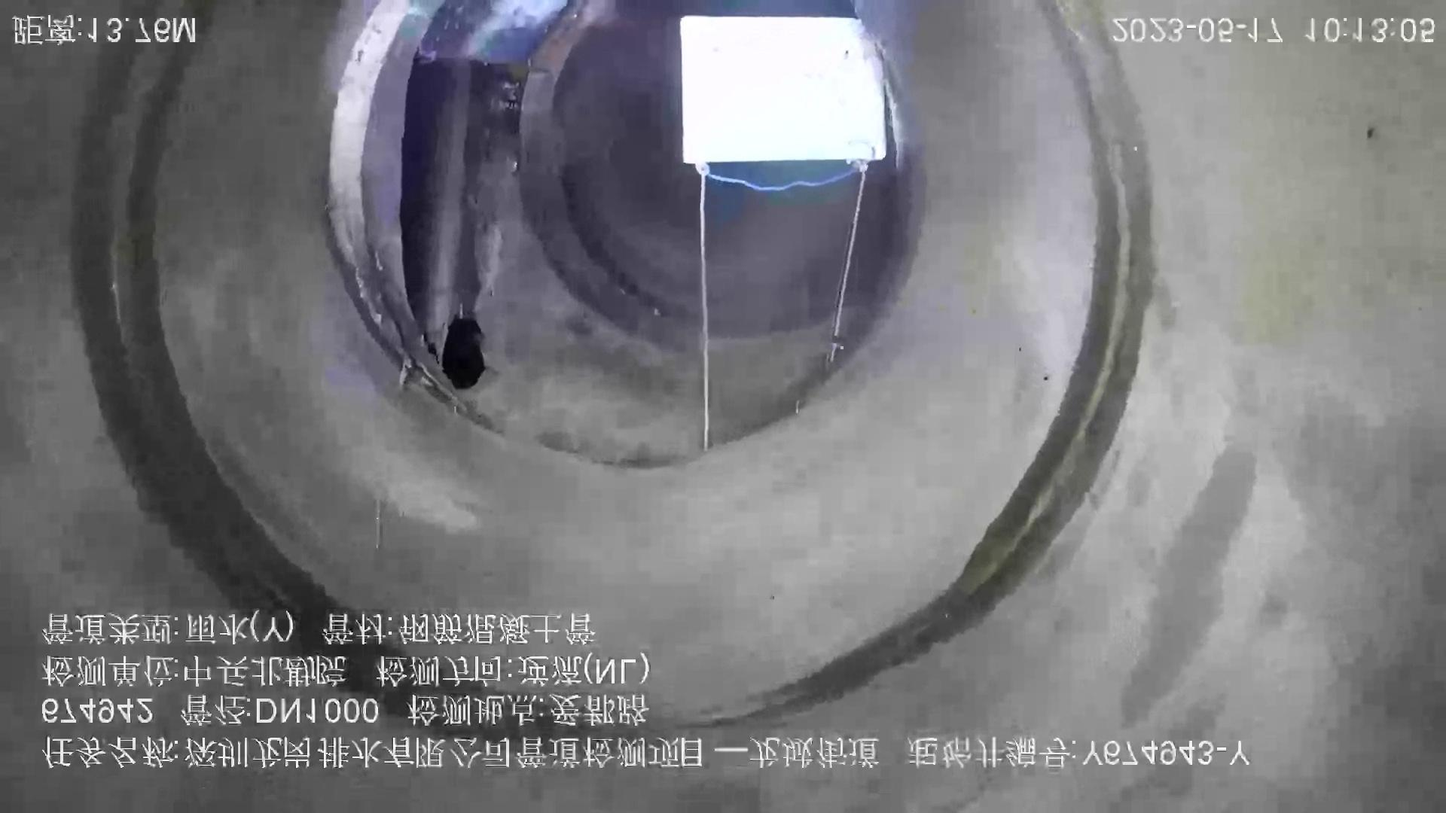CKTJ: (745, 1, 1156, 722), (328, 1, 412, 285)
